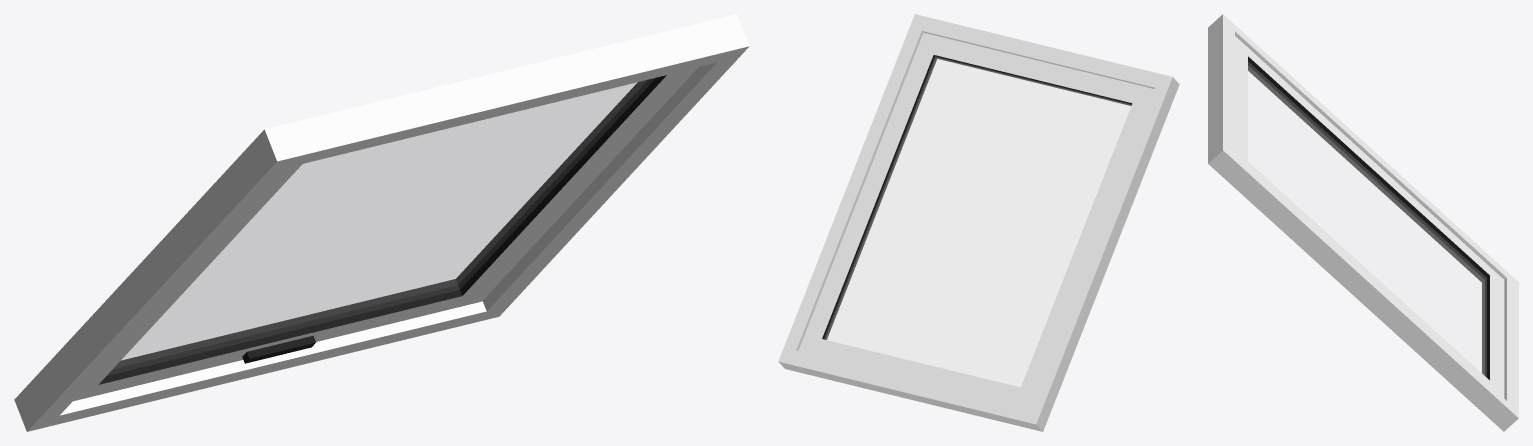
Rendered from Roof window.fbx.
3 renders of one model, left to right at view 1: azimuth 30°, elevation 25°; view 2: azimuth 150°, elevation 25°; view 3: azimuth 270°, elevation 25°, orthographic. The views are drawn at different scales.
Parts seen in each view (by area): view 1: window, window frame; view 2: window, window frame; view 3: window, window frame.
Part boxes in pixels (x1=…): window: x1=73, y1=67, x2=698, y2=401; window frame: x1=14, y1=14, x2=749, y2=431; window: x1=798, y1=32, x2=1154, y2=407; window frame: x1=778, y1=14, x2=1179, y2=431; window: x1=1235, y1=36, x2=1504, y2=398; window frame: x1=1208, y1=14, x2=1518, y2=431.
Size of the model in its own units: 97.52 by 93.99 by 93.99.
2 materials, 1 textured.
